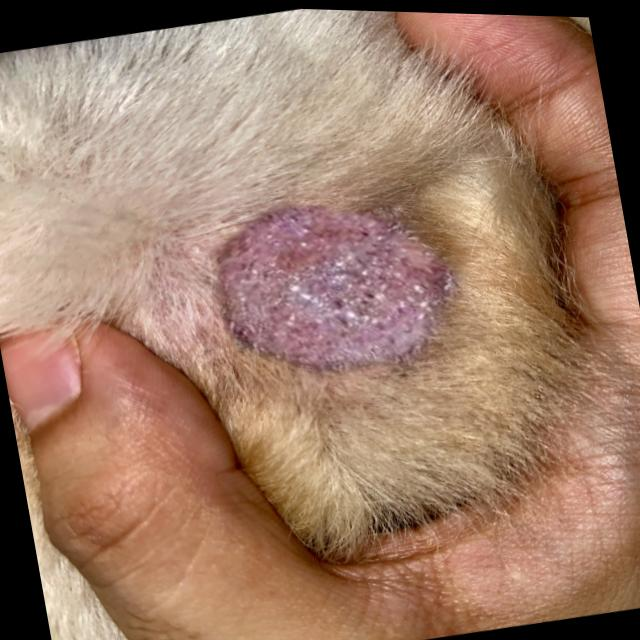ringworm: (170, 144, 478, 408)
